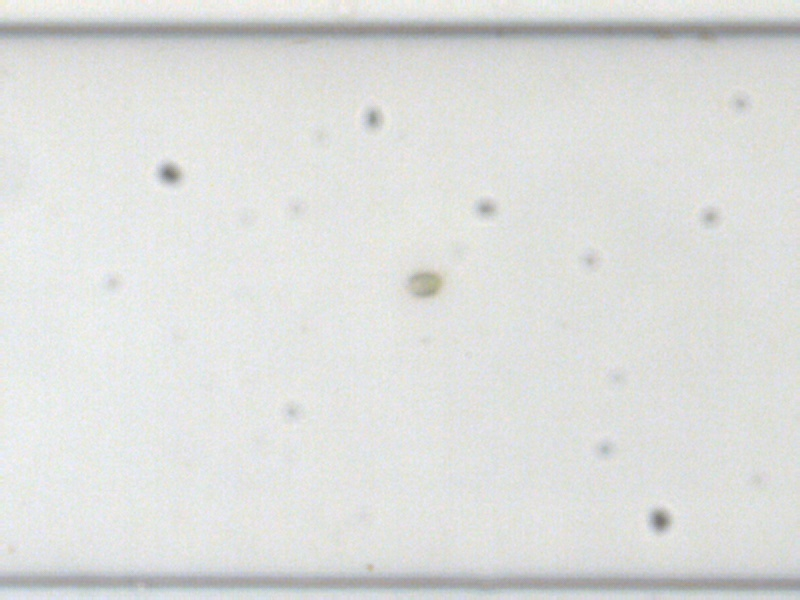Dunaliella salina: (404, 268, 444, 298)
